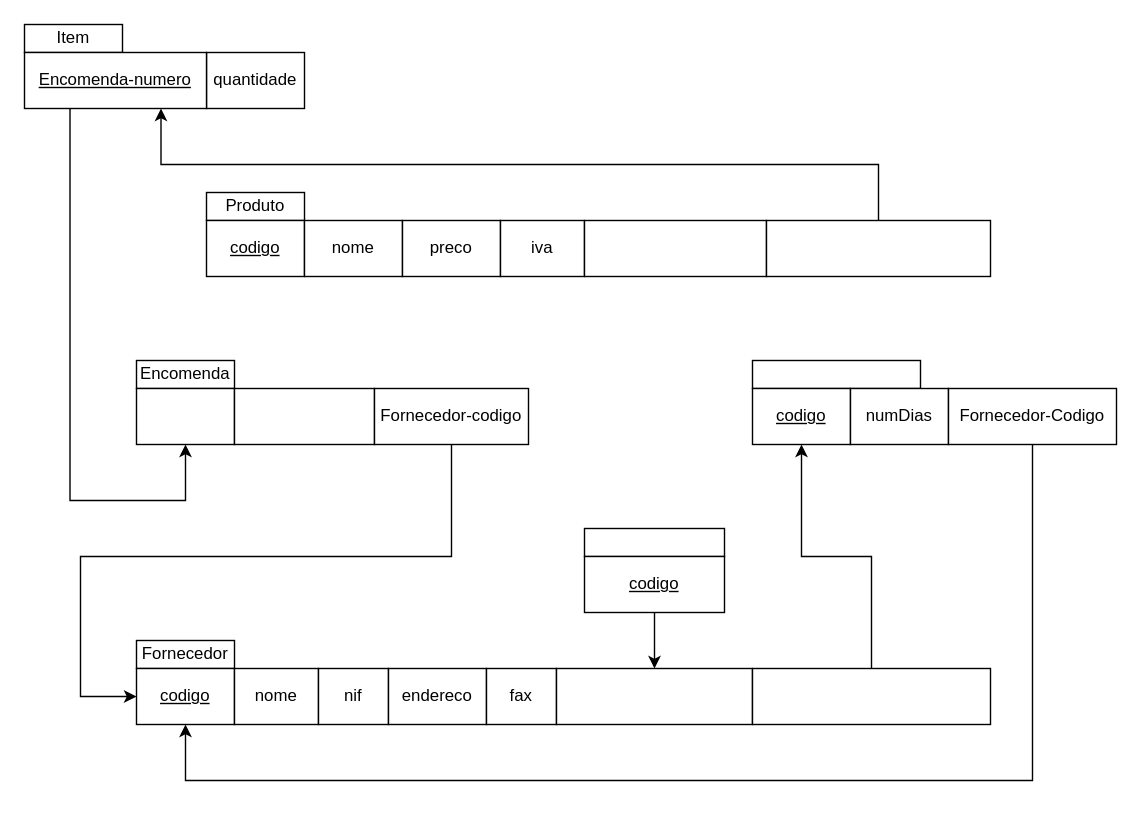
Some shapes in this 1141 by 816 pixel diagram are drawn without their labels. Each missing label, with the centre of its shape:
"CondicaoPagamento" goes at (x=835, y=373).
"CondicaoPagamento-Codigo" goes at (x=870, y=695).
"dataRealizacao" goes at (x=303, y=415).
"Item-Encomenda-numero" goes at (x=877, y=247).
"itemcodigoProduto + numeroEncomenda" goes at (x=674, y=247).
"numero" goes at (x=184, y=415).
"TipoFornecedor" goes at (x=653, y=541).
"TipoFornecedor-Codigo" goes at (x=653, y=695).
